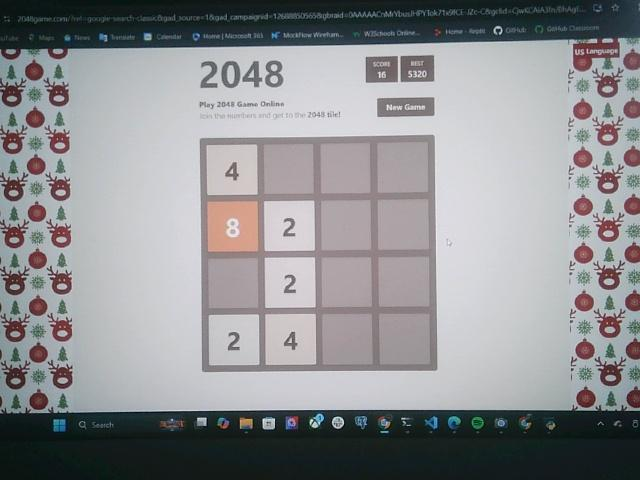best_score_box: (401, 56, 434, 82)
board: (200, 135, 437, 372)
button: (377, 97, 435, 117)
score_box: (366, 56, 398, 83)
tile: (207, 200, 258, 253), (265, 313, 316, 366), (265, 258, 316, 308), (208, 315, 259, 365), (206, 145, 258, 194), (266, 202, 315, 252)
